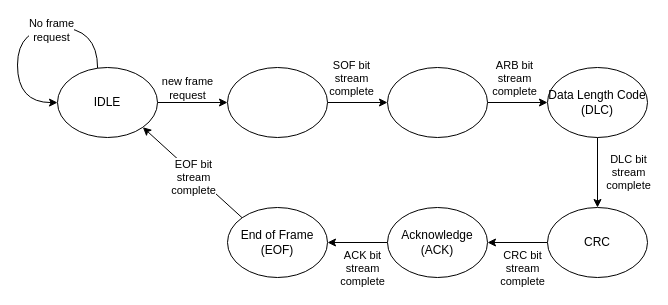
Some shapes in this 668 by 305 pixel diagram are drawn without their labels. The centre of each missing label's shape, as x and y in pixels:
Arbitration (ARB): the point at 437,102
Start of Frame (SOF): the point at 277,102
